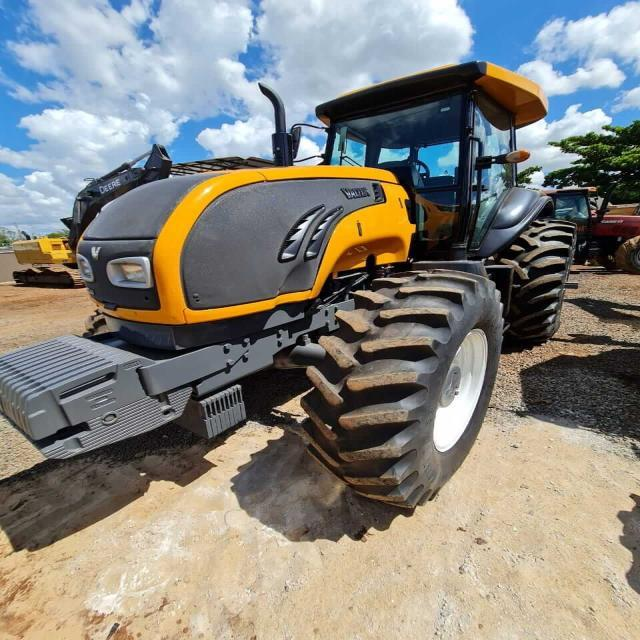Tratores - v5 YOLO V8L 2024-11-13: (6, 55, 560, 516), (543, 179, 640, 274)
